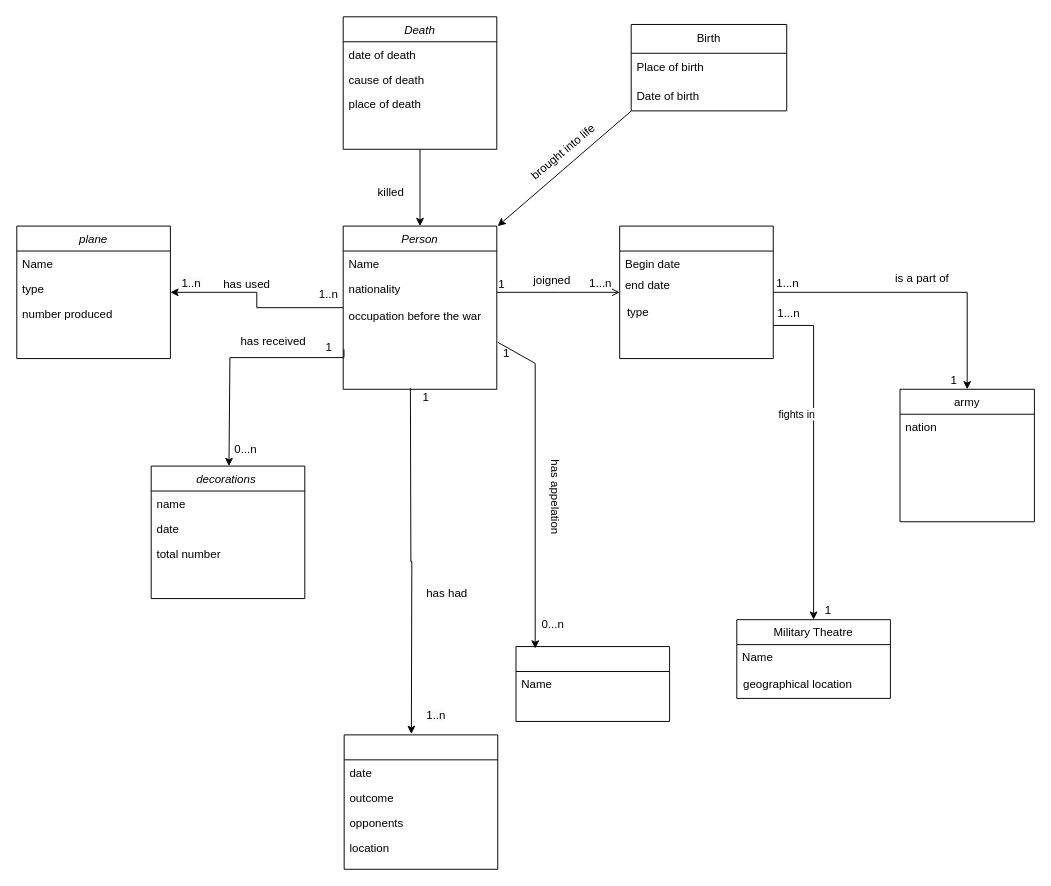
Some shapes in this 1051 by 886 pixel diagram are drawn without their labels. The shapes that lost their labels are listed below. From the top down, each one's box as (x1, y1, x2, y2) in pixels, then its label:
(619, 225, 773, 359): Unit
(515, 646, 670, 721): appelation
(343, 734, 498, 869): aerial victory
